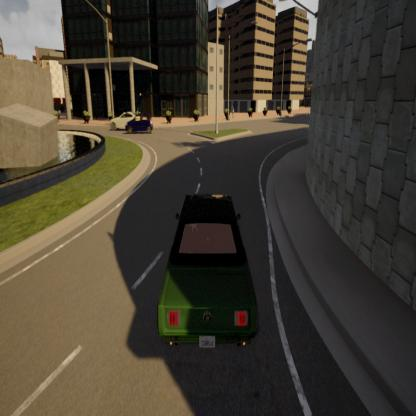Cars: (148, 181, 263, 355), (124, 107, 155, 137), (108, 108, 140, 131)
